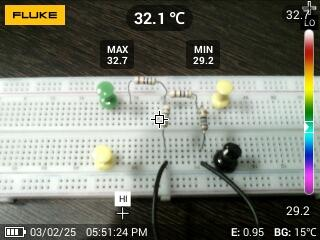resistor: (166, 88, 196, 99), (160, 103, 172, 130), (132, 74, 158, 86), (199, 106, 209, 133)
